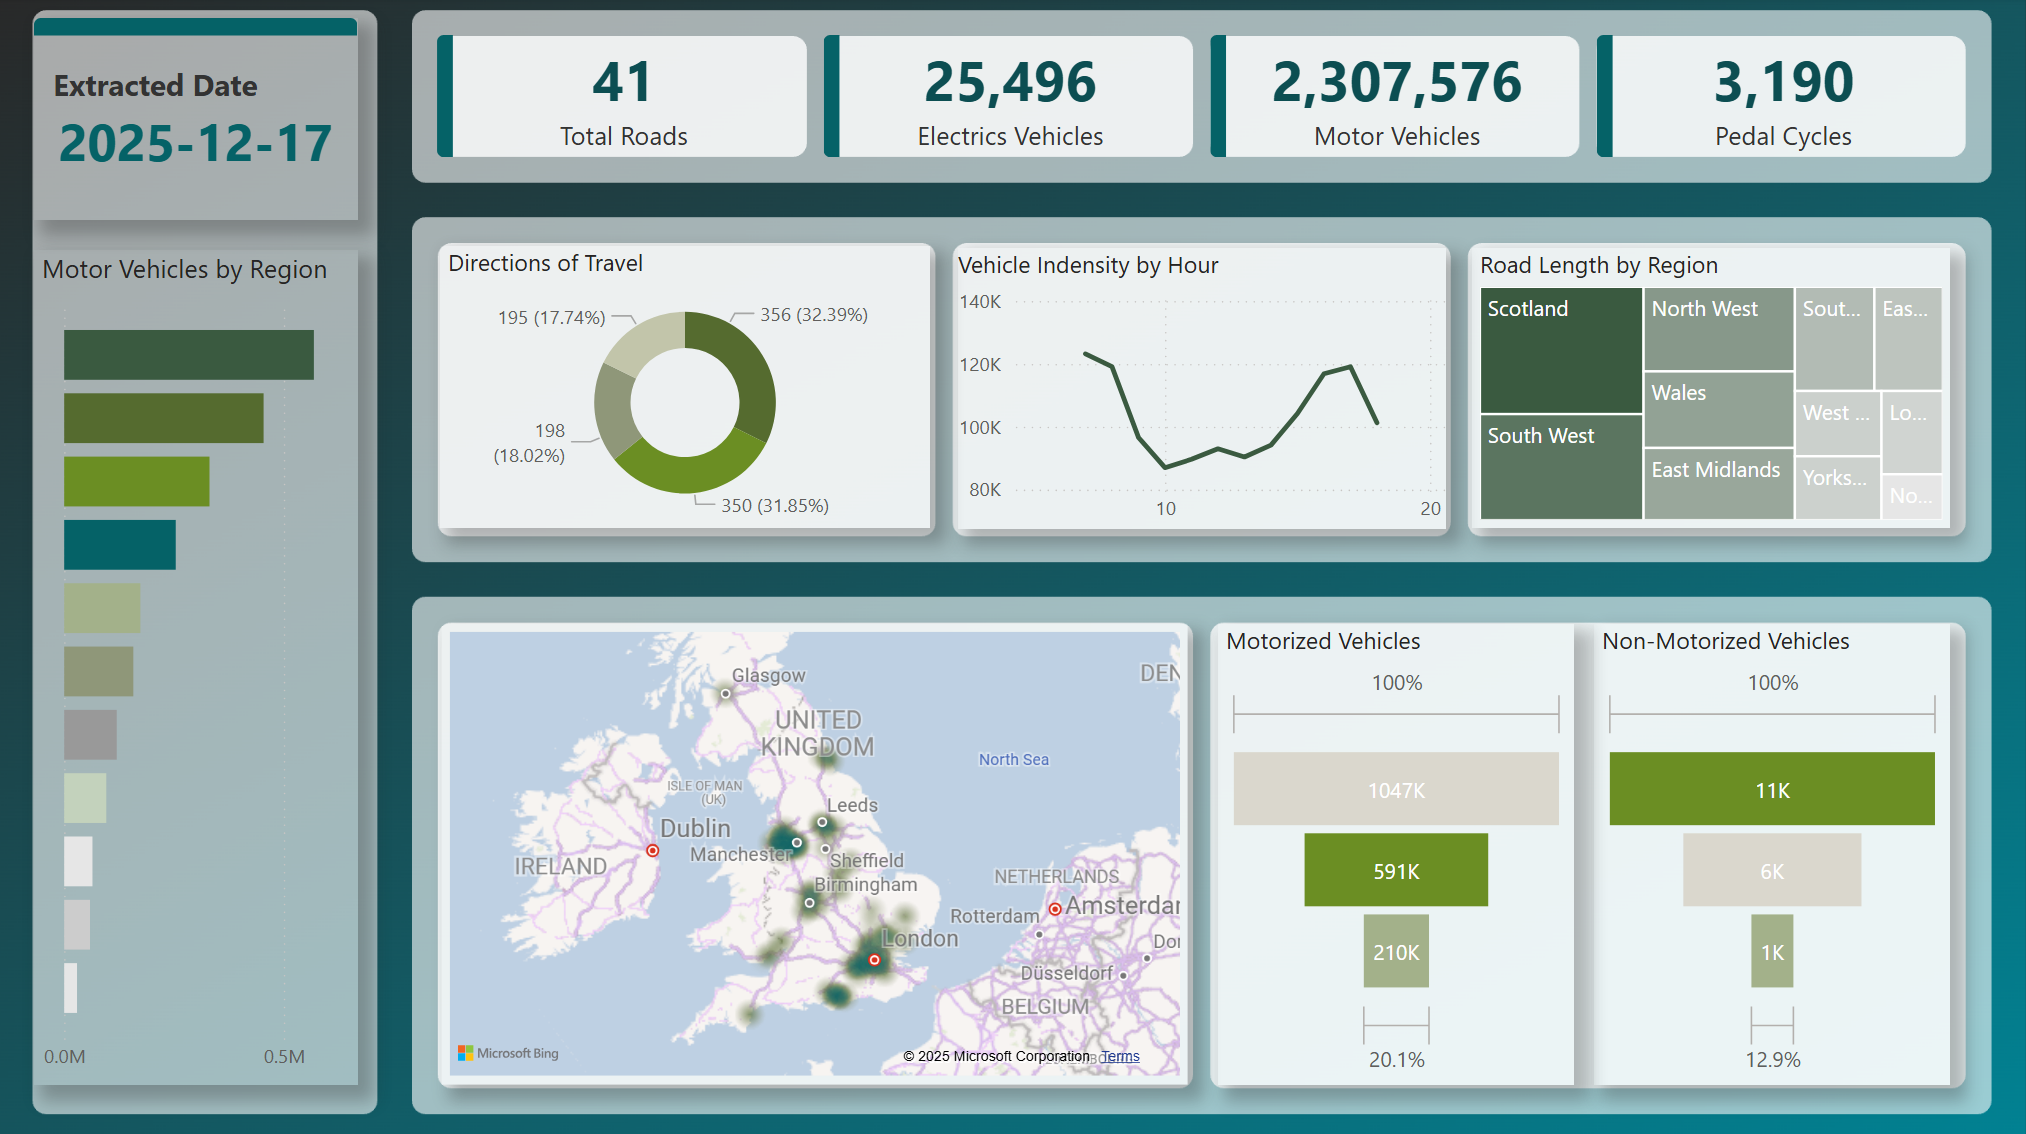

This screenshot's page, from the dashboard's own definition file:
{"tool":"powerbi","page":{"name":"Page 1","canvas":[1280,720],"ordinal":0},"visuals":[{"type":"cardVisual","fields":{"Data":["Measure Table.Total Roads","Sum(gold_traffic.Electrics_Vehicles_Count)","Sum(gold_traffic.Motor_Vehicles_Count)","Sum(gold_traffic.Pedal_cycles)"]},"box":[264.7,12.8,992.3,101],"z":0},{"type":"donutChart","title":"Directions of Travel","fields":{"Category":["gold_traffic.Direction_of_travel"],"Y":["Measure Table.Total Record"]},"box":[279.4,158.2,309.3,178.2],"z":1000},{"type":"funnel","title":"Motorized Vehicles","fields":{"Category":["gold_roads.Road_Category_Name"],"Y":["Measure Table.Total Motors"]},"box":[769.7,396.3,225.2,290.8],"z":2000},{"type":"map","fields":{"Y":["gold_traffic.Latitude"],"X":["gold_traffic.Longitude"],"Size":["Measure Table.Total Record"]},"box":[279.7,396.6,470.6,290.4],"z":3000},{"type":"clusteredBarChart","title":"Motor Vehicles by Region","fields":{"Category":["gold_traffic.Region_name"],"Y":["Sum(gold_traffic.Motor_Vehicles_Count)"]},"box":[22.9,160,204.4,527.1],"z":3001},{"type":"lineChart","title":"Vehicle Indensity by Hour","fields":{"Category":["gold_traffic.hour"],"Y":["Sum(gold_traffic.Vehicle_Indensity)"]},"box":[606.4,158.7,307.9,177.5],"z":3002},{"type":"funnel","title":"Non-Motorized Vehicles","fields":{"Category":["gold_roads.Road_Category_Name"],"Y":["Measure Table.Total Two-wheeled Vehicles"]},"box":[1007.8,396.3,225.2,290.8],"z":3003},{"type":"treemap","title":"Road Length by Region","fields":{"Group":["gold_roads.Region_Name"],"Values":["Sum(gold_roads.Total_Link_Length_Km)"]},"box":[930.8,159.6,302.2,176.7],"z":3004},{"type":"cardVisual","fields":{"Data":["Min(gold_traffic.Extract_Time)"]},"box":[22.9,13.4,204.4,127.7],"z":3005}]}

Visuals, with their boxes in screenshot pixels (x1, y1, x2, y2), scaled from the page's 1280x720 canvas onto the 2026x1134 screenshot:
cardVisual - Measure Table.Total Roads x Sum(gold_traffic.Electrics_Vehicles_Count): (419,20,1990,179)
"Directions of Travel" donutChart: (442,249,932,530)
"Motorized Vehicles" funnel: (1218,624,1575,1082)
map - gold_traffic.Latitude x gold_traffic.Longitude: (443,625,1188,1082)
"Motor Vehicles by Region" clusteredBarChart: (36,252,360,1082)
"Vehicle Indensity by Hour" lineChart: (960,250,1447,530)
"Non-Motorized Vehicles" funnel: (1595,624,1952,1082)
"Road Length by Region" treemap: (1473,251,1952,530)
cardVisual - Min(gold_traffic.Extract_Time): (36,21,360,222)
